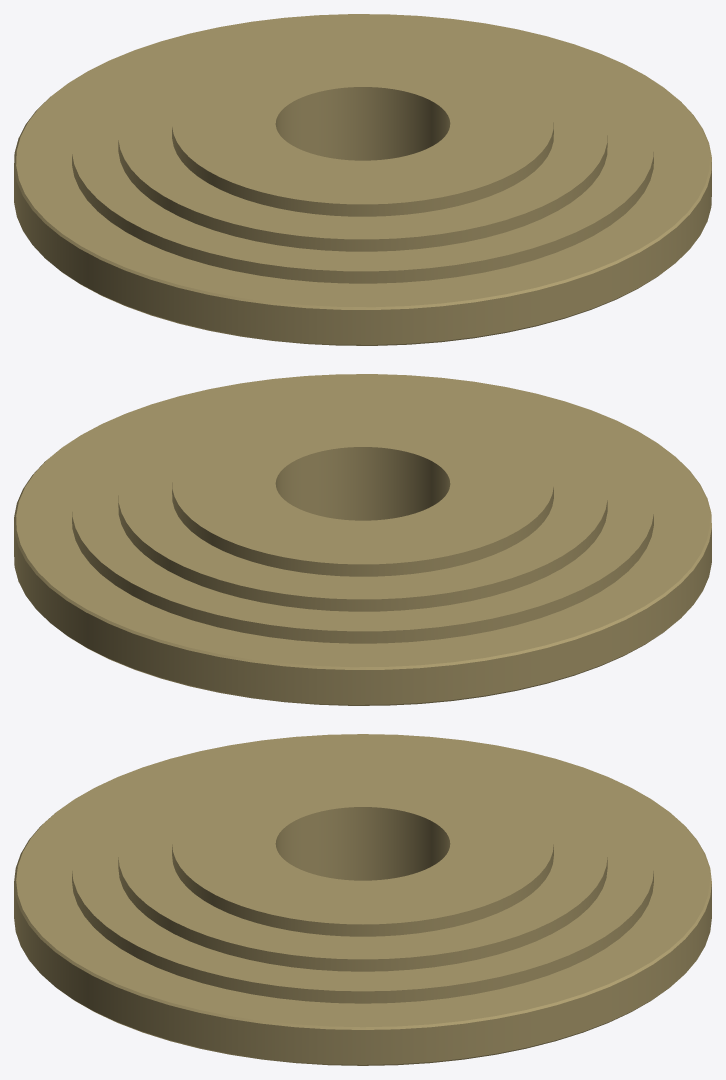
Rendered from SM_Pie2.fbx.
The picture shows the model from 3 angles, top to bottom: view 1: azimuth 30°, elevation 25°; view 2: azimuth 150°, elevation 25°; view 3: azimuth 270°, elevation 25°; orthographic projection.
Parts seen in each view (by area): view 1: SM_PieBottom; view 2: SM_PieBottom; view 3: SM_PieBottom.
Part boxes in pixels (x1=…): SM_PieBottom: x1=14, y1=14, x2=711, y2=345; SM_PieBottom: x1=14, y1=374, x2=711, y2=705; SM_PieBottom: x1=14, y1=734, x2=711, y2=1065.
Size of the model in its own units: 0.8927 by 0.1066 by 0.8927.
